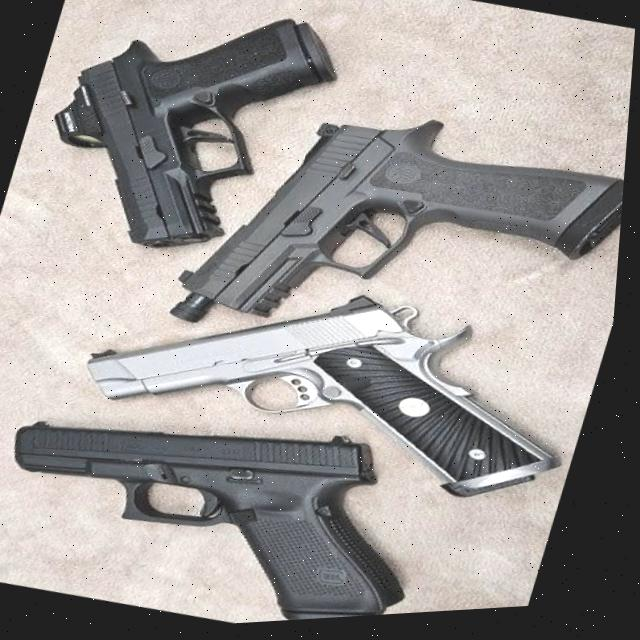gun: (53, 16, 624, 322), (87, 293, 561, 496), (15, 419, 408, 620)
